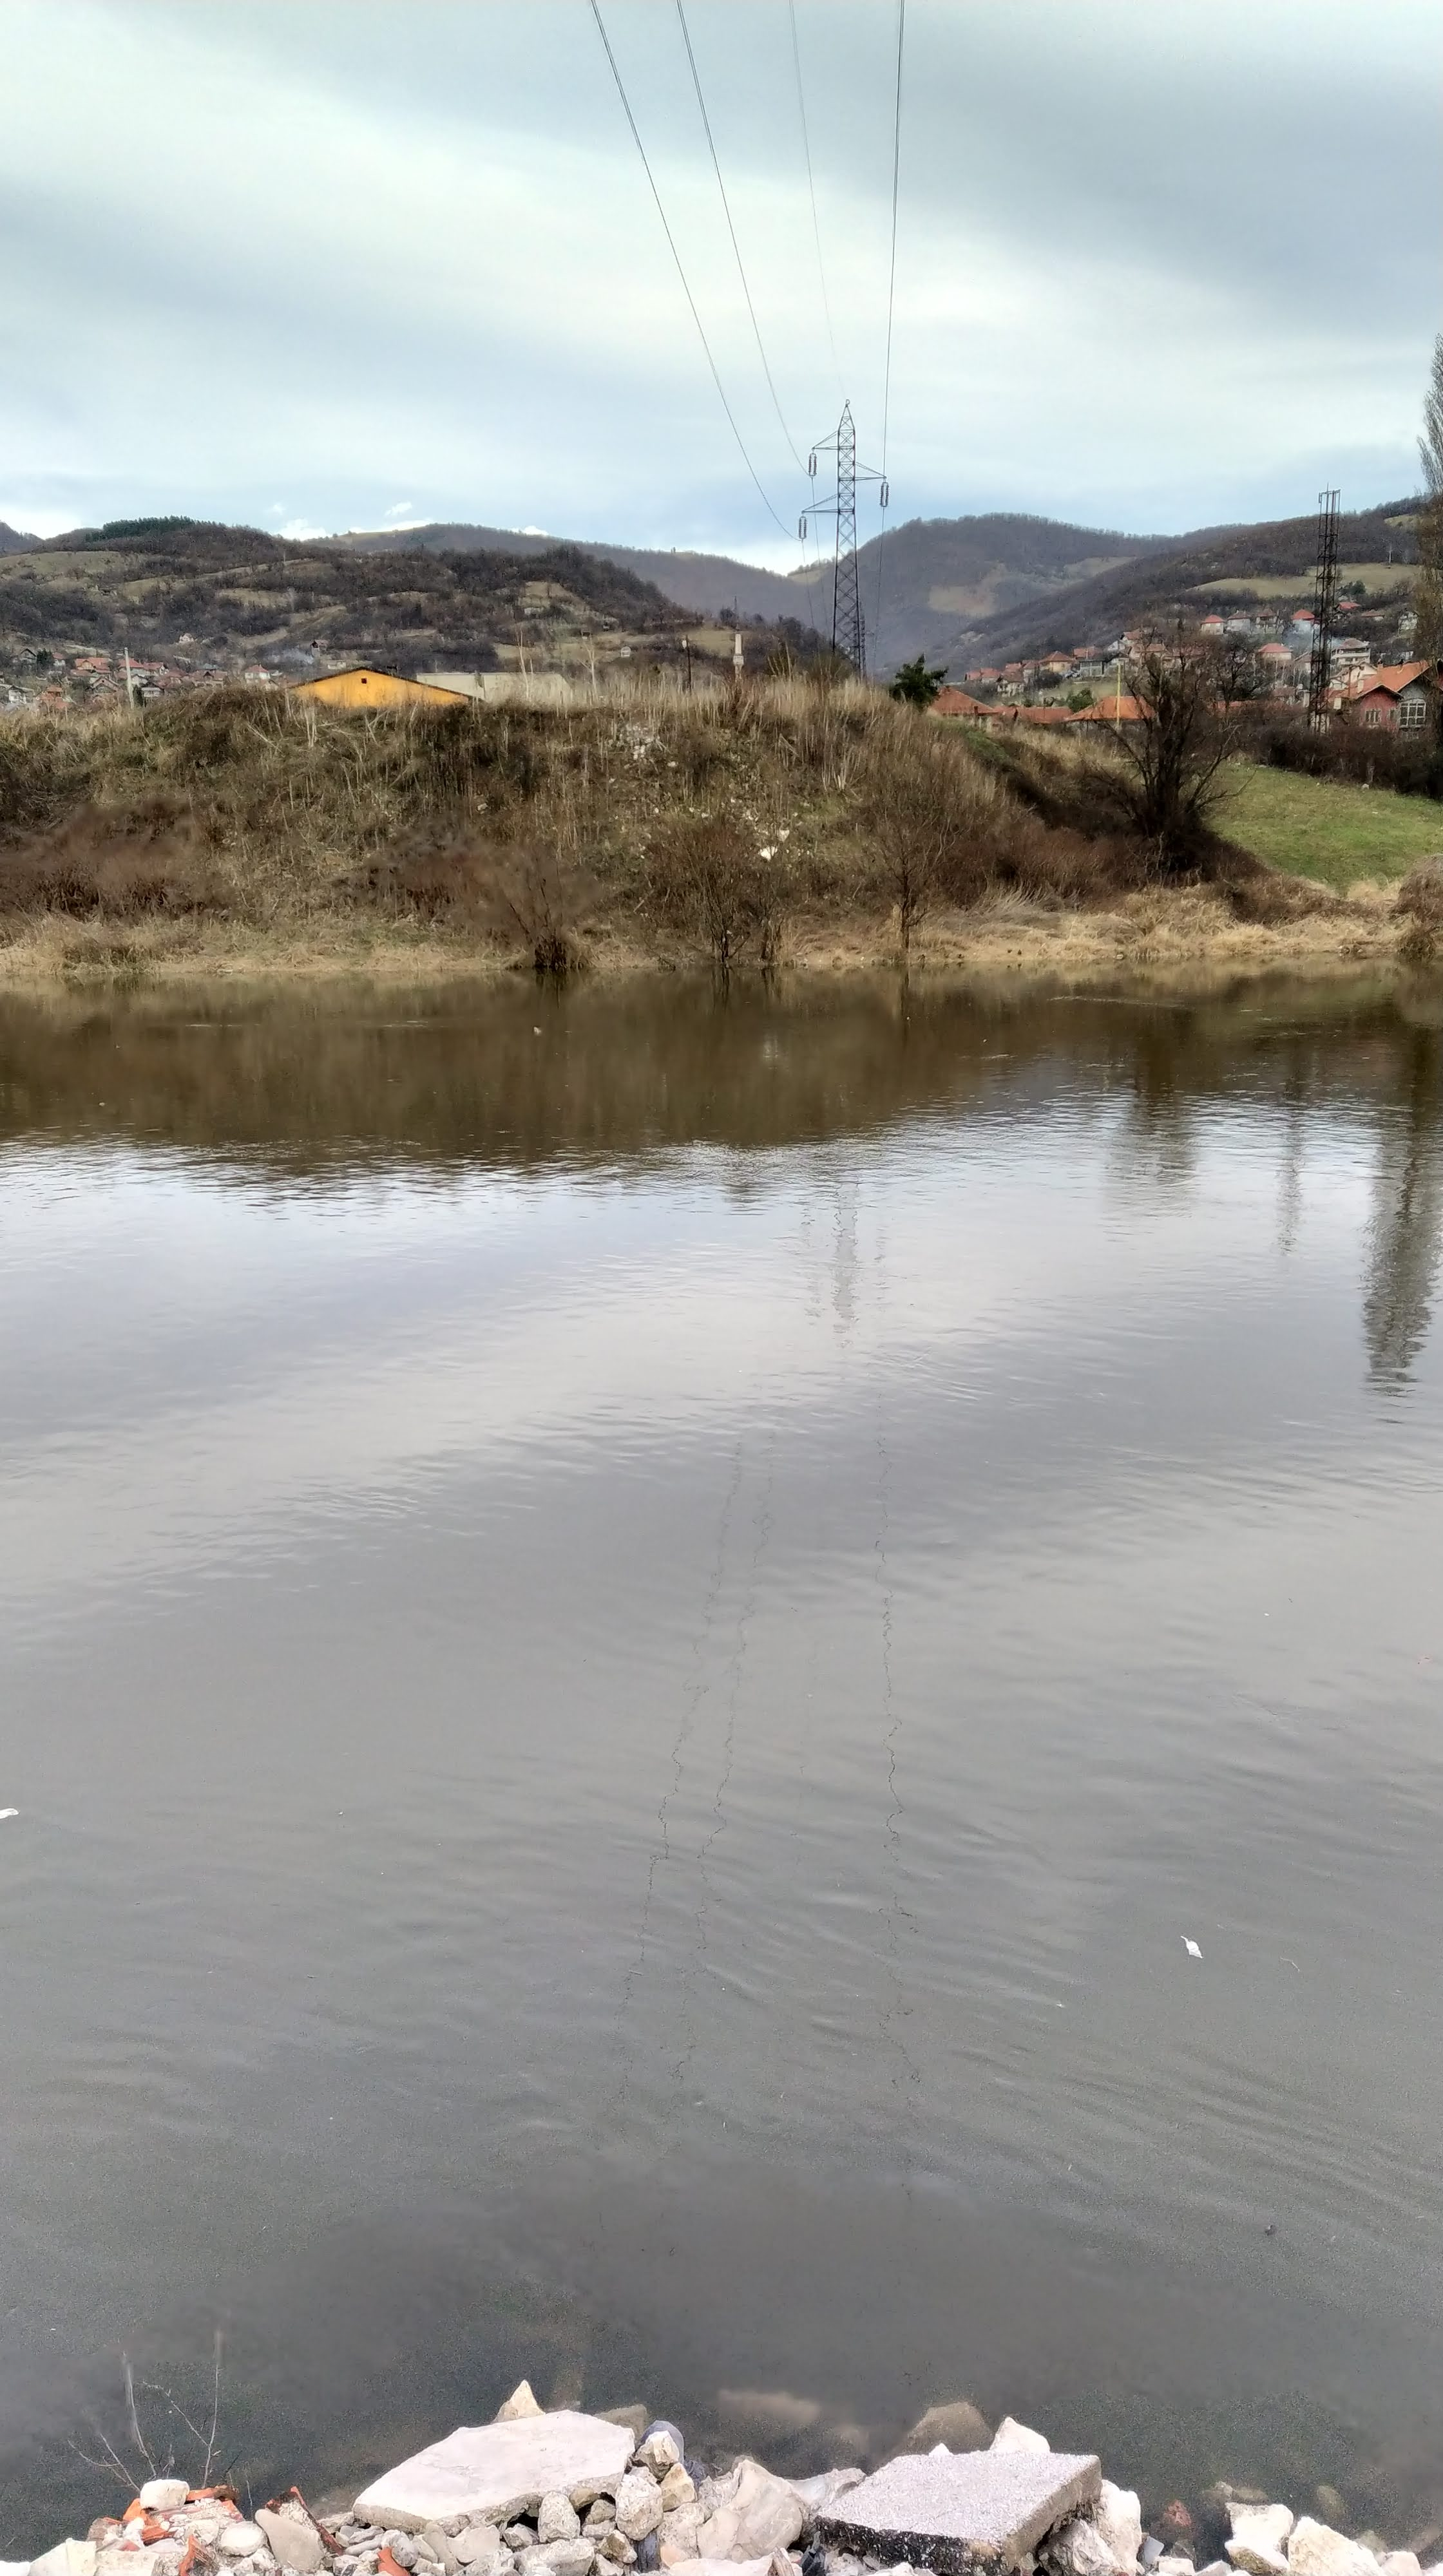Plastic Bottle: (533, 1026, 540, 1033), (1117, 954, 1123, 959)
